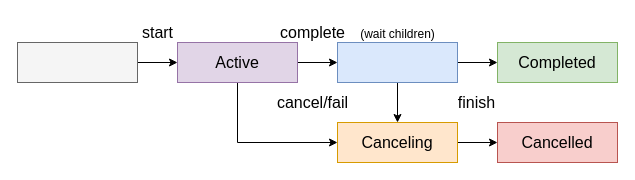
Some shapes in this 635 by 180 pixel diagram are drawn without their labels. Each missing label, with the centre of its shape:
"Completing" belongs at point (397, 62).
"New" belongs at point (77, 62).
